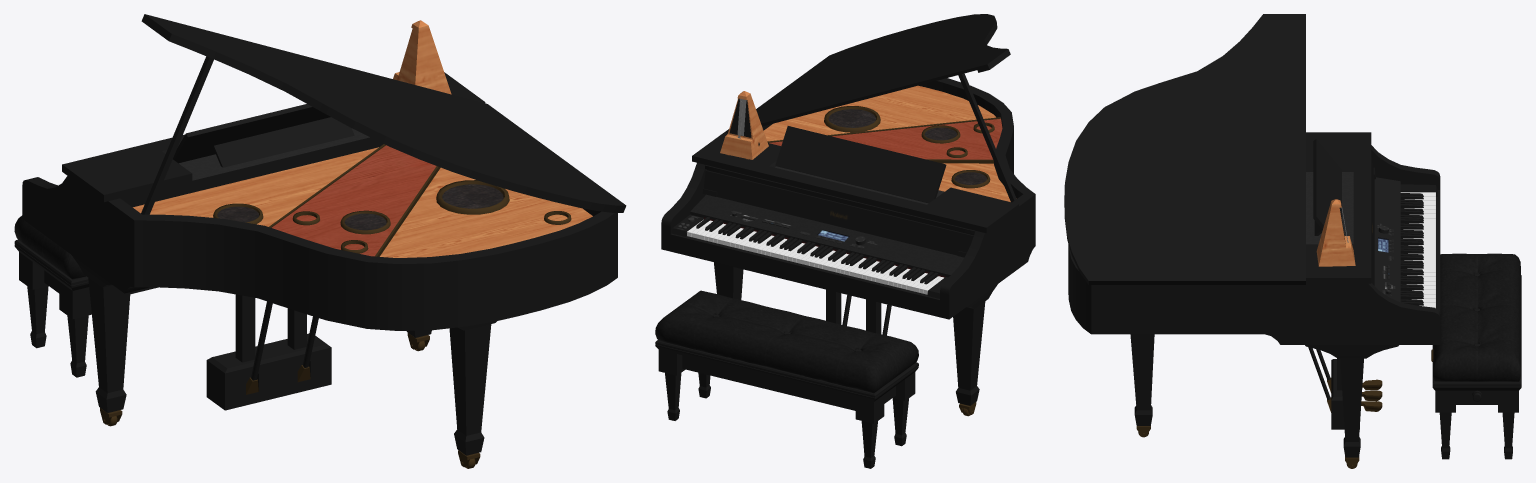
The model's file is piano.bundle.glb.
3 renders of one model, left to right at view 1: azimuth 30°, elevation 25°; view 2: azimuth 150°, elevation 25°; view 3: azimuth 270°, elevation 25°, orthographic. The views are drawn at different scales.
Parts seen in each view (by area): view 1: pianoBody, chairBod, metronomeBod, chairCushion; view 2: pianoBody, chairCushion, chairBod, metronomeBod; view 3: pianoBody, chairCushion, chairBod, metronomeBod.
Boxes of the visible parts, x1,y1,x2,y2 form: pianoBody: [22, 14, 626, 468]; chairBod: [14, 239, 158, 377]; metronomeBod: [393, 20, 451, 94]; chairCushion: [14, 215, 85, 279]; pianoBody: [661, 14, 1035, 416]; chairCushion: [655, 290, 918, 393]; chairBod: [655, 340, 918, 468]; metronomeBod: [720, 91, 768, 159]; pianoBody: [1064, 14, 1440, 468]; chairCushion: [1433, 253, 1520, 381]; chairBod: [1431, 275, 1521, 459]; metronomeBod: [1316, 199, 1355, 266].
Bounding box in the file's own units: 21.62 × 23.25 × 28.49.
1 material, 1 textured.
